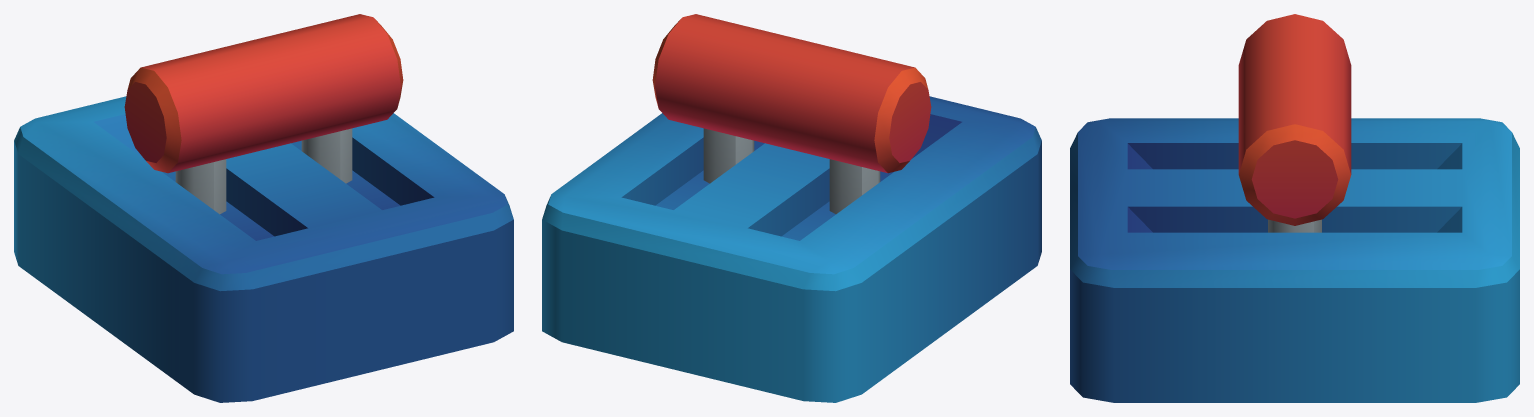
File: lever.glb
3 views of the same model, side by side, from view 1: azimuth 30°, elevation 25°; view 2: azimuth 150°, elevation 25°; view 3: azimuth 270°, elevation 25° (orthographic). The views are drawn at different scales.
Parts seen in each view (by area): view 1: base, lever; view 2: base, lever; view 3: base, lever.
Part boxes in pixels (x1=…): base: x1=14, y1=96, x2=513, y2=402; lever: x1=124, y1=14, x2=403, y2=214; base: x1=542, y1=96, x2=1041, y2=402; lever: x1=652, y1=14, x2=931, y2=214; base: x1=1070, y1=118, x2=1519, y2=402; lever: x1=1238, y1=14, x2=1351, y2=232.
Size of the model in its own units: 1 by 0.85 by 1.2.
Materials: 1 (1 with a texture image).
